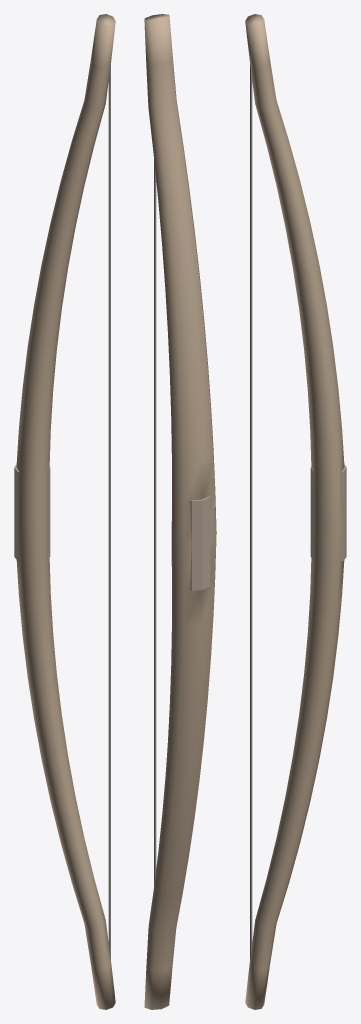
Rendered from bow.glb.
3 renders of one model, left to right at view 1: azimuth 90°, elevation 25°; view 2: azimuth 210°, elevation 25°; view 3: azimuth 270°, elevation 25°, orthographic.
Visible parts, largest first — view 1: Body_LOD0; view 2: Body_LOD0; view 3: Body_LOD0.
Boxes of the visible parts, x1=… form: Body_LOD0: x1=14, y1=14, x2=115, y2=1009; Body_LOD0: x1=144, y1=14, x2=216, y2=1009; Body_LOD0: x1=245, y1=14, x2=346, y2=1009.
Size of what is drawn, in the model's own units: 0.063 by 1.32 by 0.1236.
